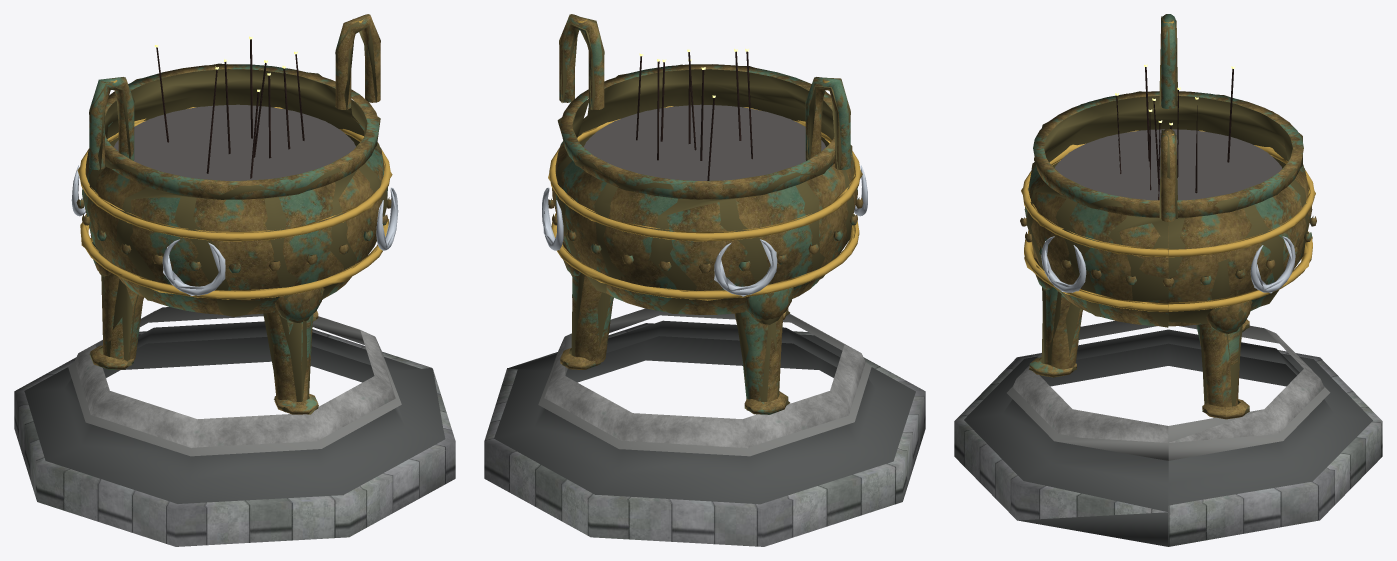
File: prop_bronze_ding.gltf
3 renders of one model, left to right at view 1: azimuth 30°, elevation 25°; view 2: azimuth 150°, elevation 25°; view 3: azimuth 270°, elevation 25°, orthographic. The views are drawn at different scales.
Visible parts, largest first — view 1: Near, Far; view 2: Near, Far; view 3: Far, Near.
Part boxes in pixels (<box>): Near: <box>14,14,455,546</box>; Far: <box>24,14,445,546</box>; Near: <box>484,14,925,546</box>; Far: <box>494,14,915,546</box>; Far: <box>960,16,1372,546</box>; Near: <box>954,14,1382,546</box>.
Bounding box in the file's own units: 3.1 × 3.04 × 3.1.
9 materials, 4 textured.
